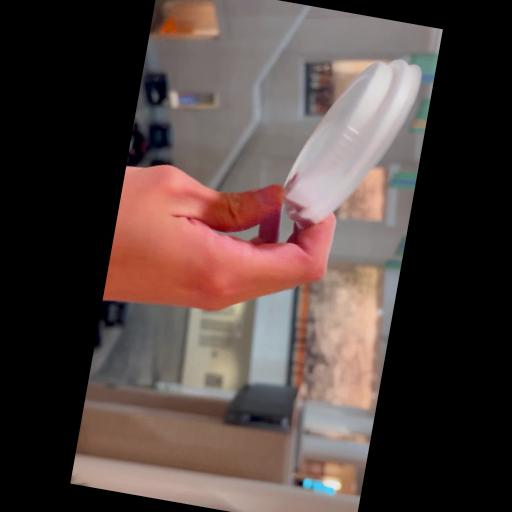lp_cup_lids: (274, 44, 424, 246)
